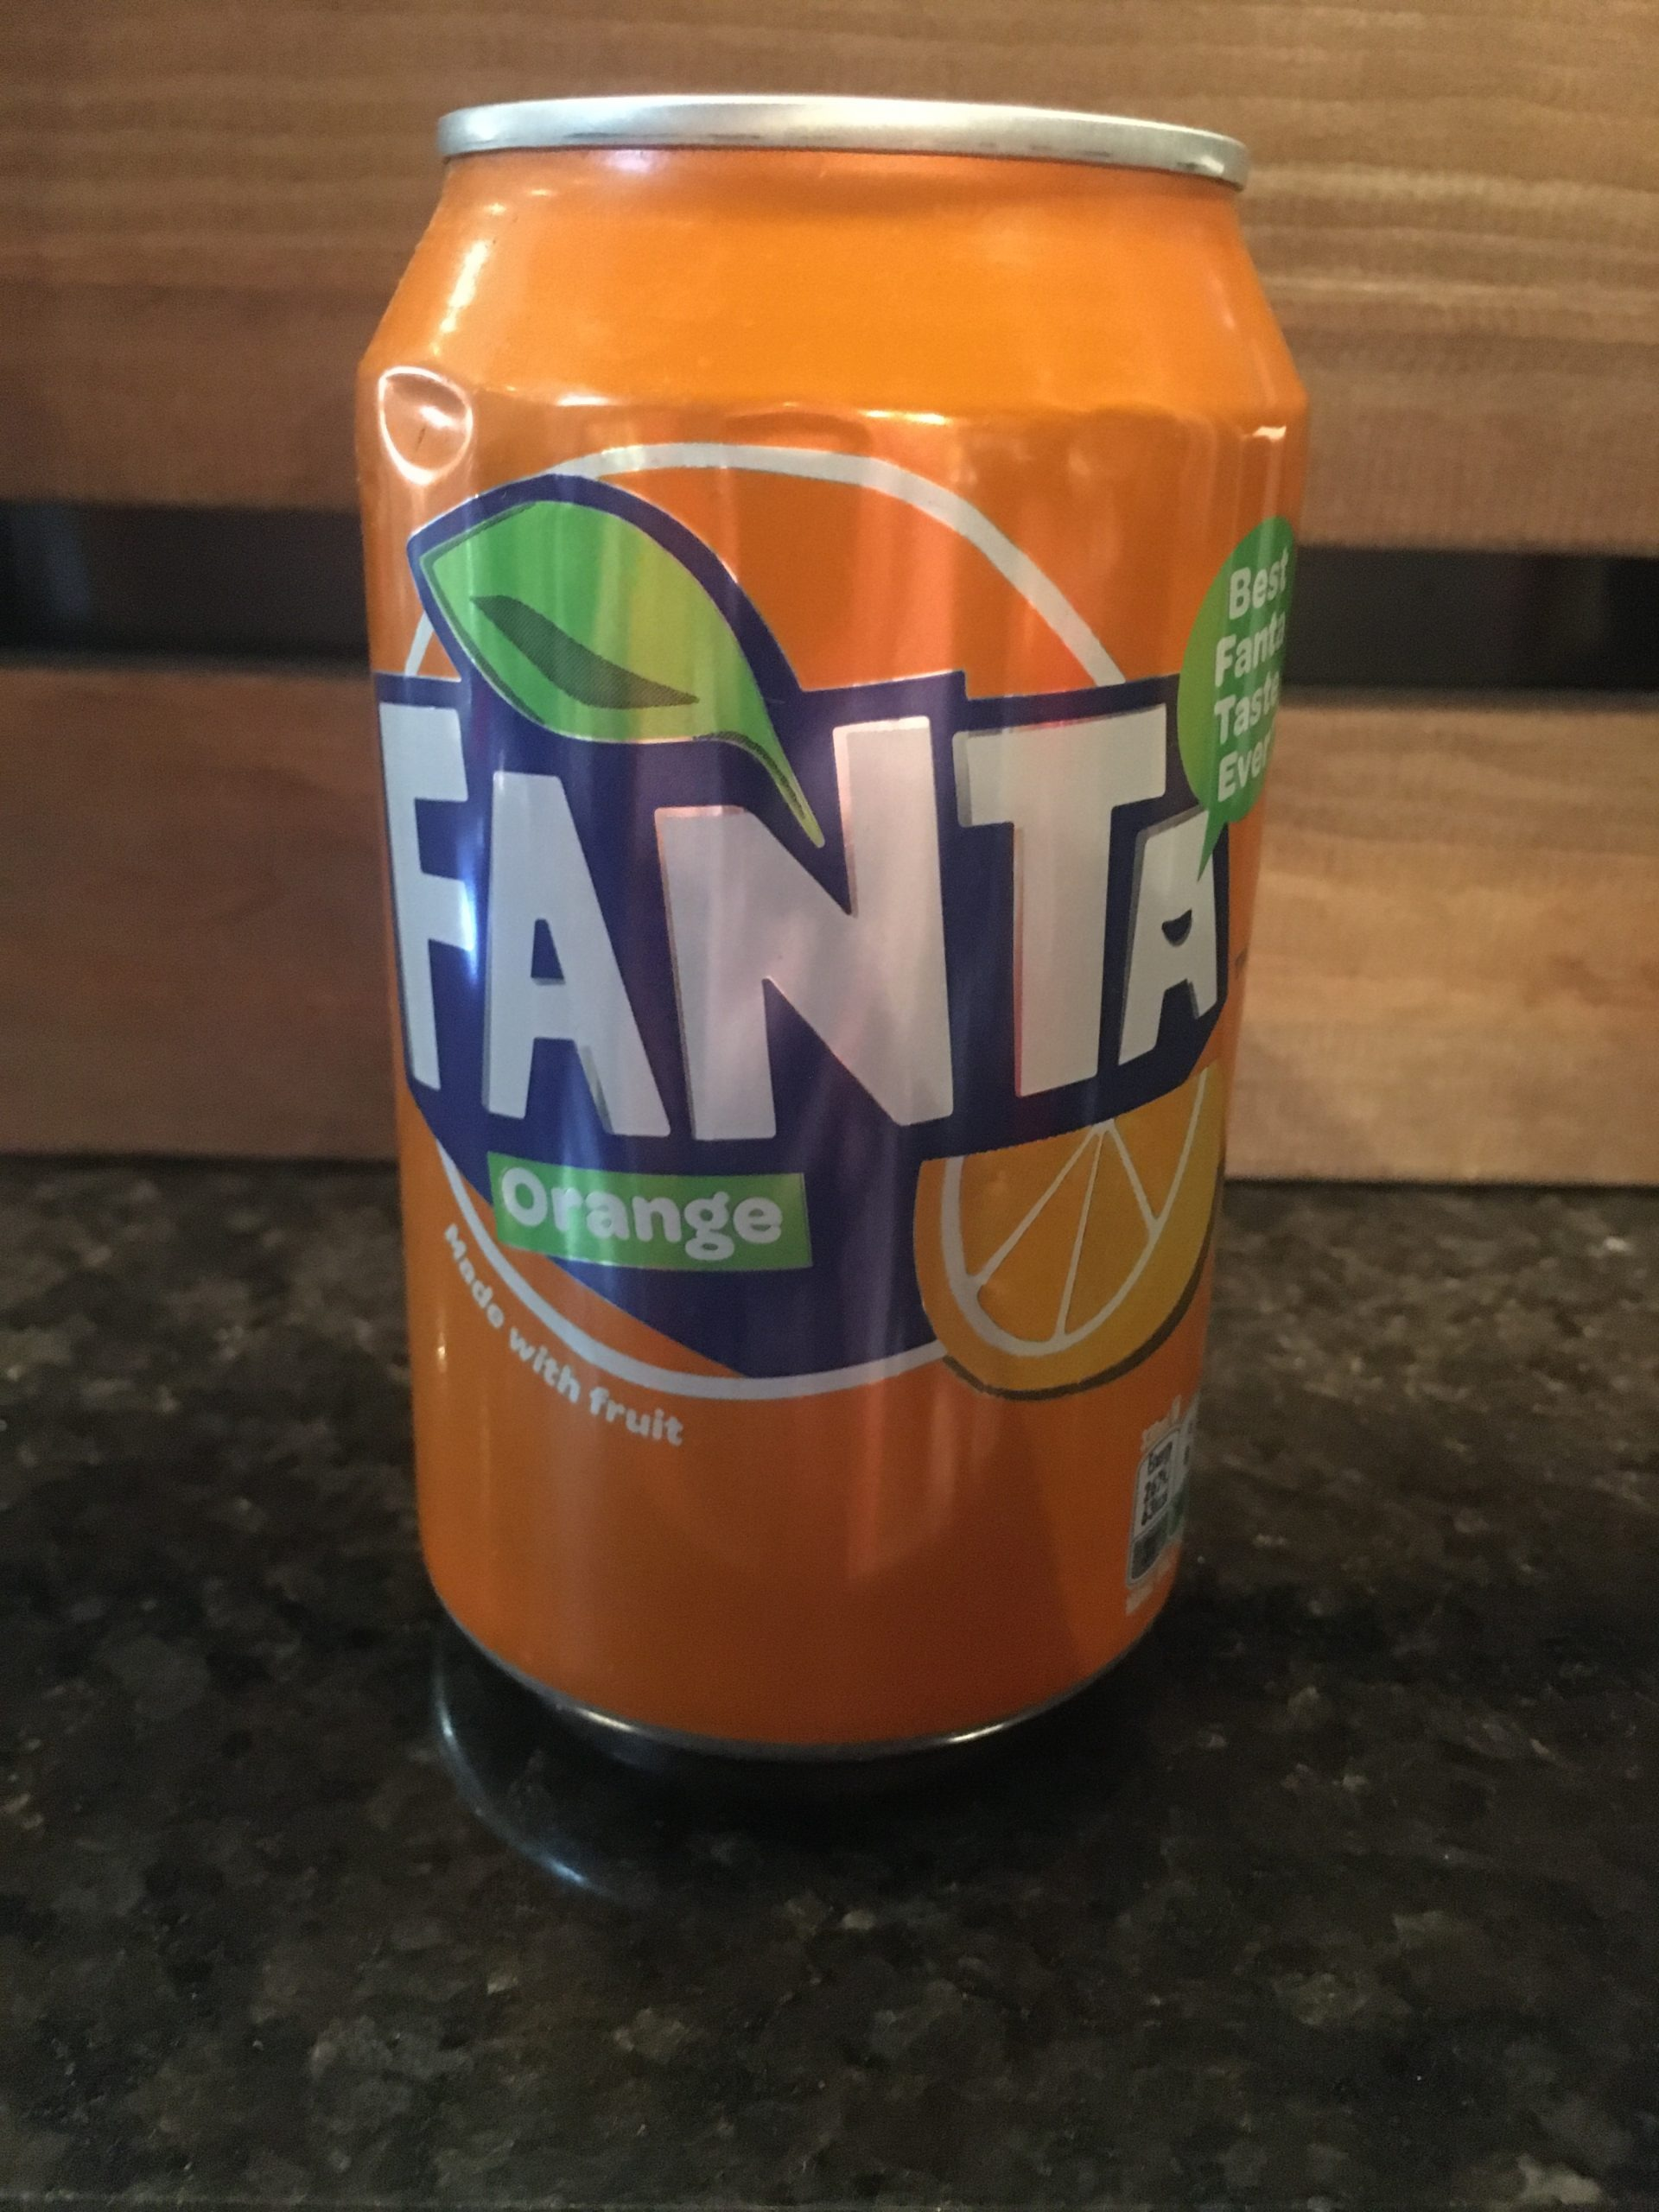metal: (342, 89, 1323, 1822)
